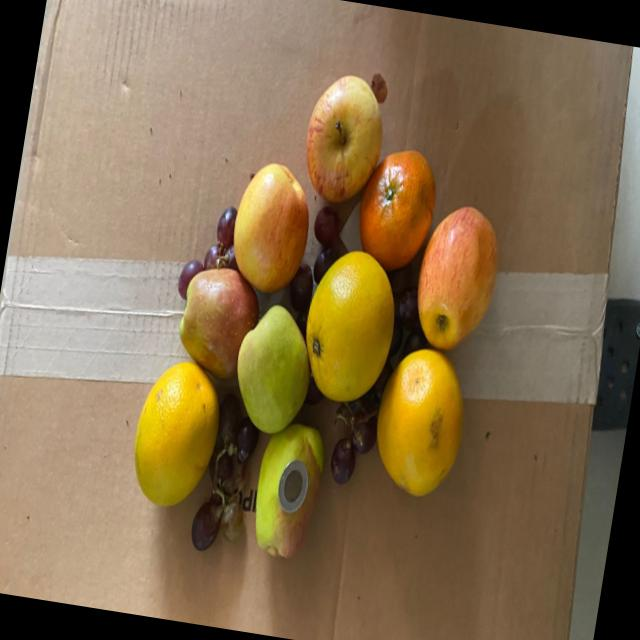moneda: (271, 451, 317, 522)
